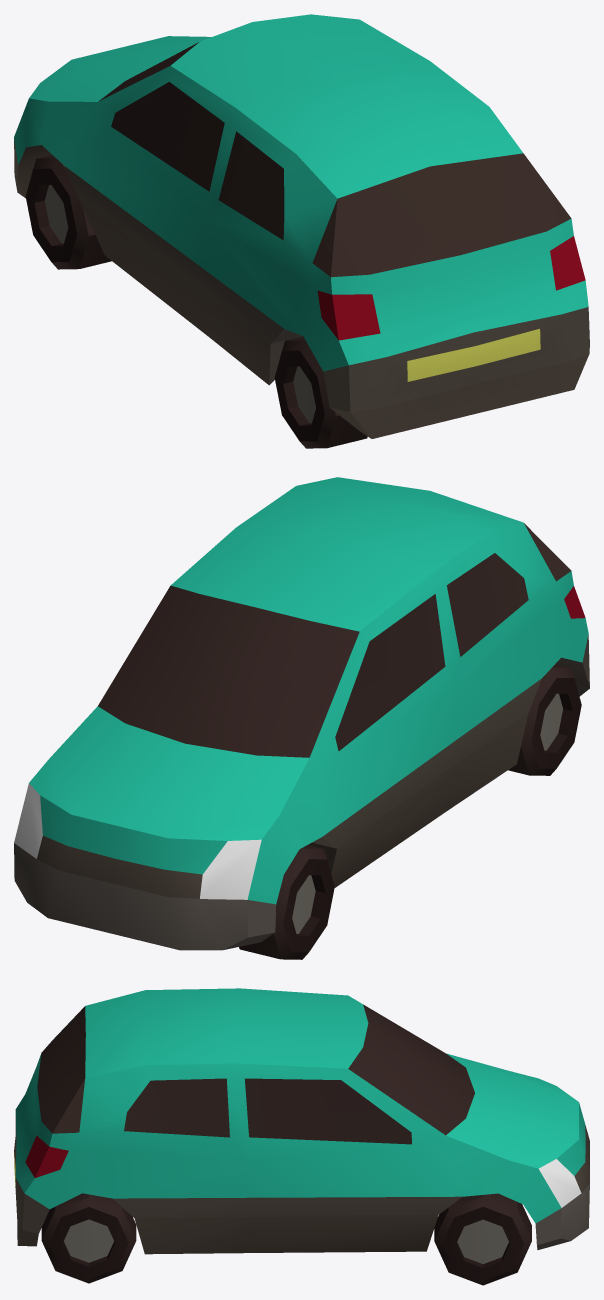
The model's file is carModel1.obj.
3 renders of one model, top to bottom at view 1: azimuth 30°, elevation 25°; view 2: azimuth 150°, elevation 25°; view 3: azimuth 270°, elevation 25°, orthographic. The views are drawn at different scales.
Parts seen in each view (by area): view 1: Car_Carrosserie, Car_Base; view 2: Car_Carrosserie, Car_Base; view 3: Car_Carrosserie, Car_Base.
Part boxes in pixels (x1,y1,x2,y2): Car_Carrosserie: (14,14,588,371); Car_Base: (14,42,589,448); Car_Carrosserie: (29,477,588,904); Car_Base: (14,523,589,959); Car_Carrosserie: (15,988,585,1223); Car_Base: (14,1004,589,1285).
Bounding box in the file's own units: 1.94 × 1.98 × 4.67.
Materials: 3 (3 with a texture image).
